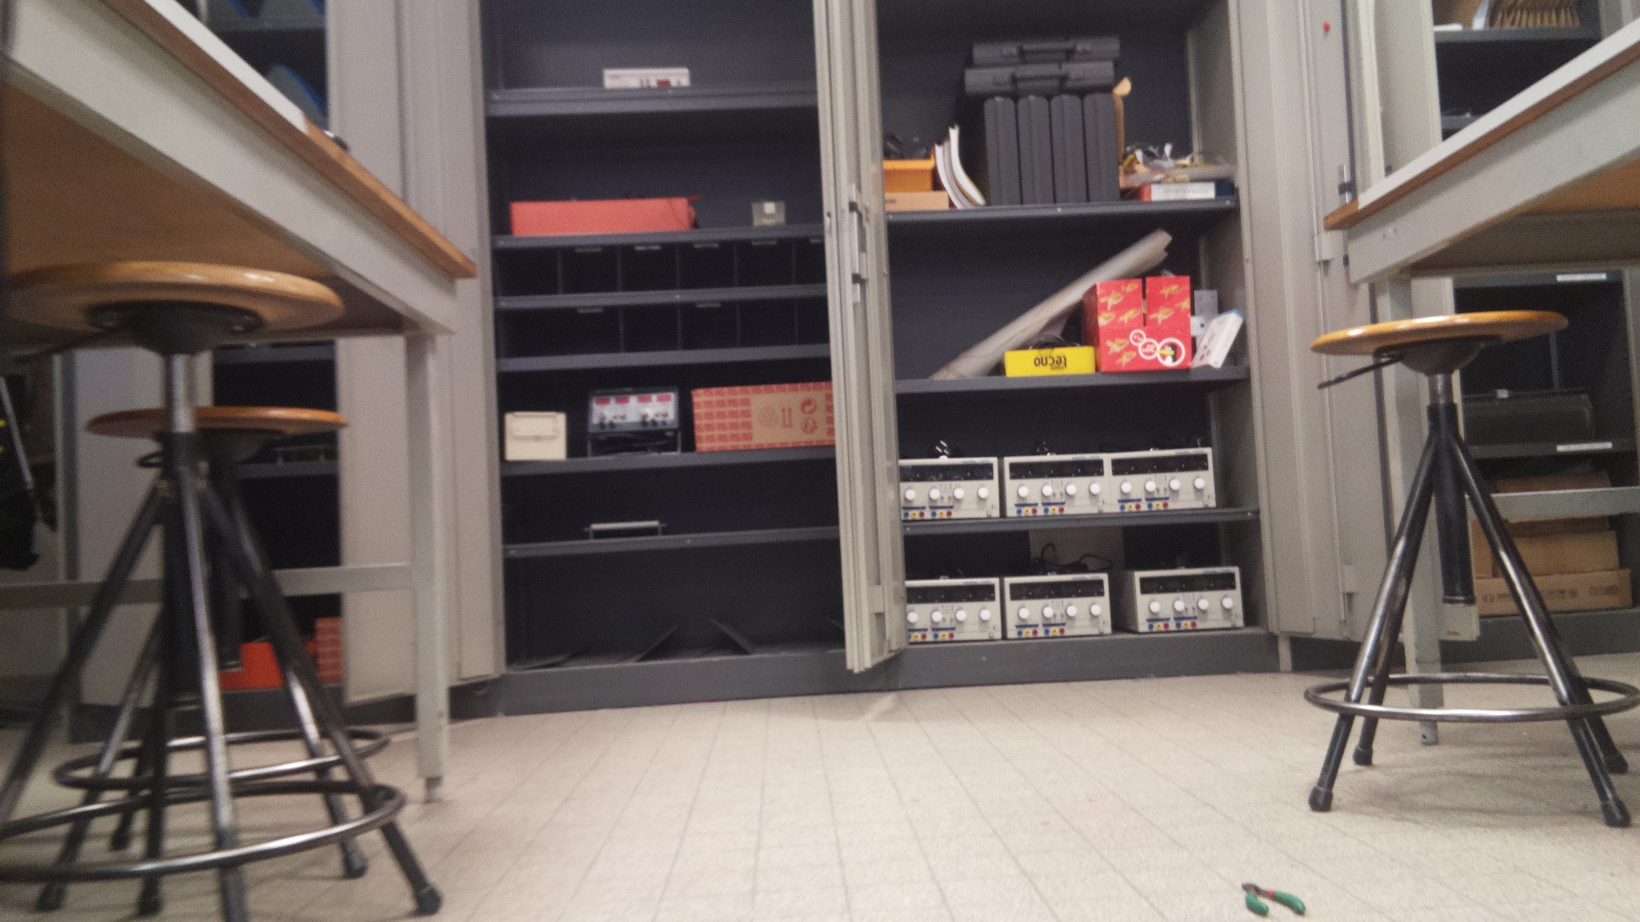small: (1239, 878, 1307, 922)
